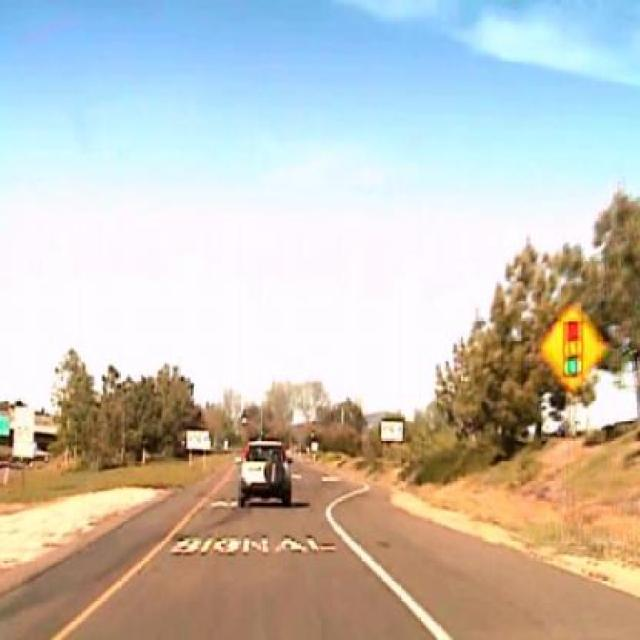signalAhead: (540, 302, 607, 391)
